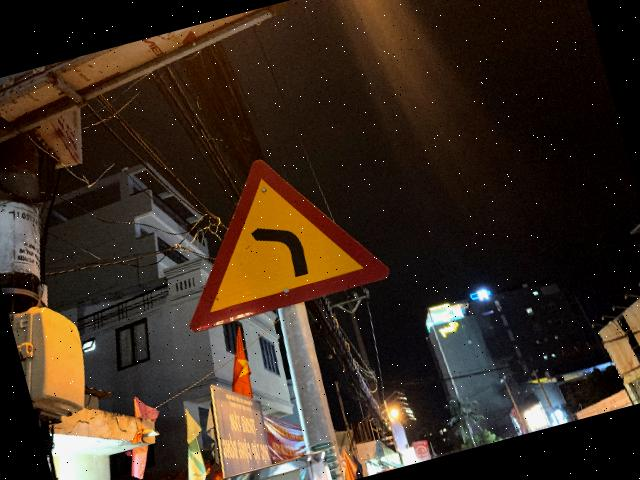cho-ngoat-nguy-hiem-ben-phai: (150, 132, 392, 334)
